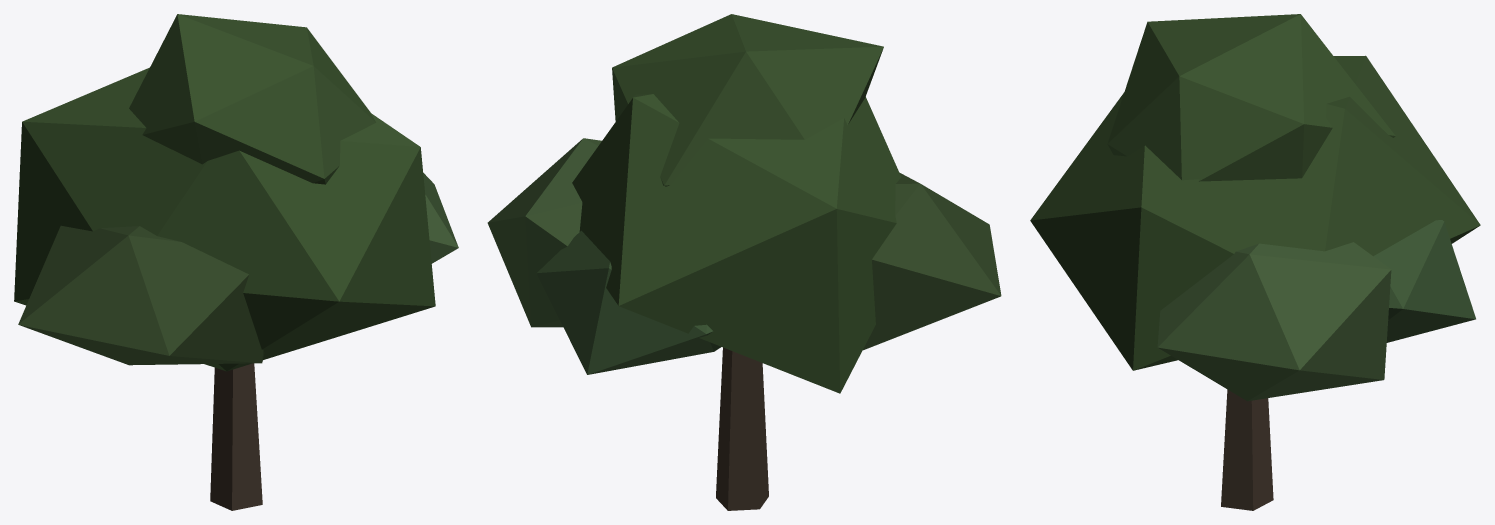
Rendered from holm_oak.glb.
3 renders of one model, left to right at view 1: azimuth 30°, elevation 25°; view 2: azimuth 150°, elevation 25°; view 3: azimuth 270°, elevation 25°, orthographic.
Parts seen in each view (by area): view 1: holm_oak; view 2: holm_oak; view 3: holm_oak.
Part boxes in pixels (bbox=[...]): holm_oak: bbox=[14, 14, 458, 510]; holm_oak: bbox=[487, 14, 1001, 510]; holm_oak: bbox=[1030, 14, 1480, 510].
Bounding box in the file's own units: 7.66 × 7.48 × 6.49.
